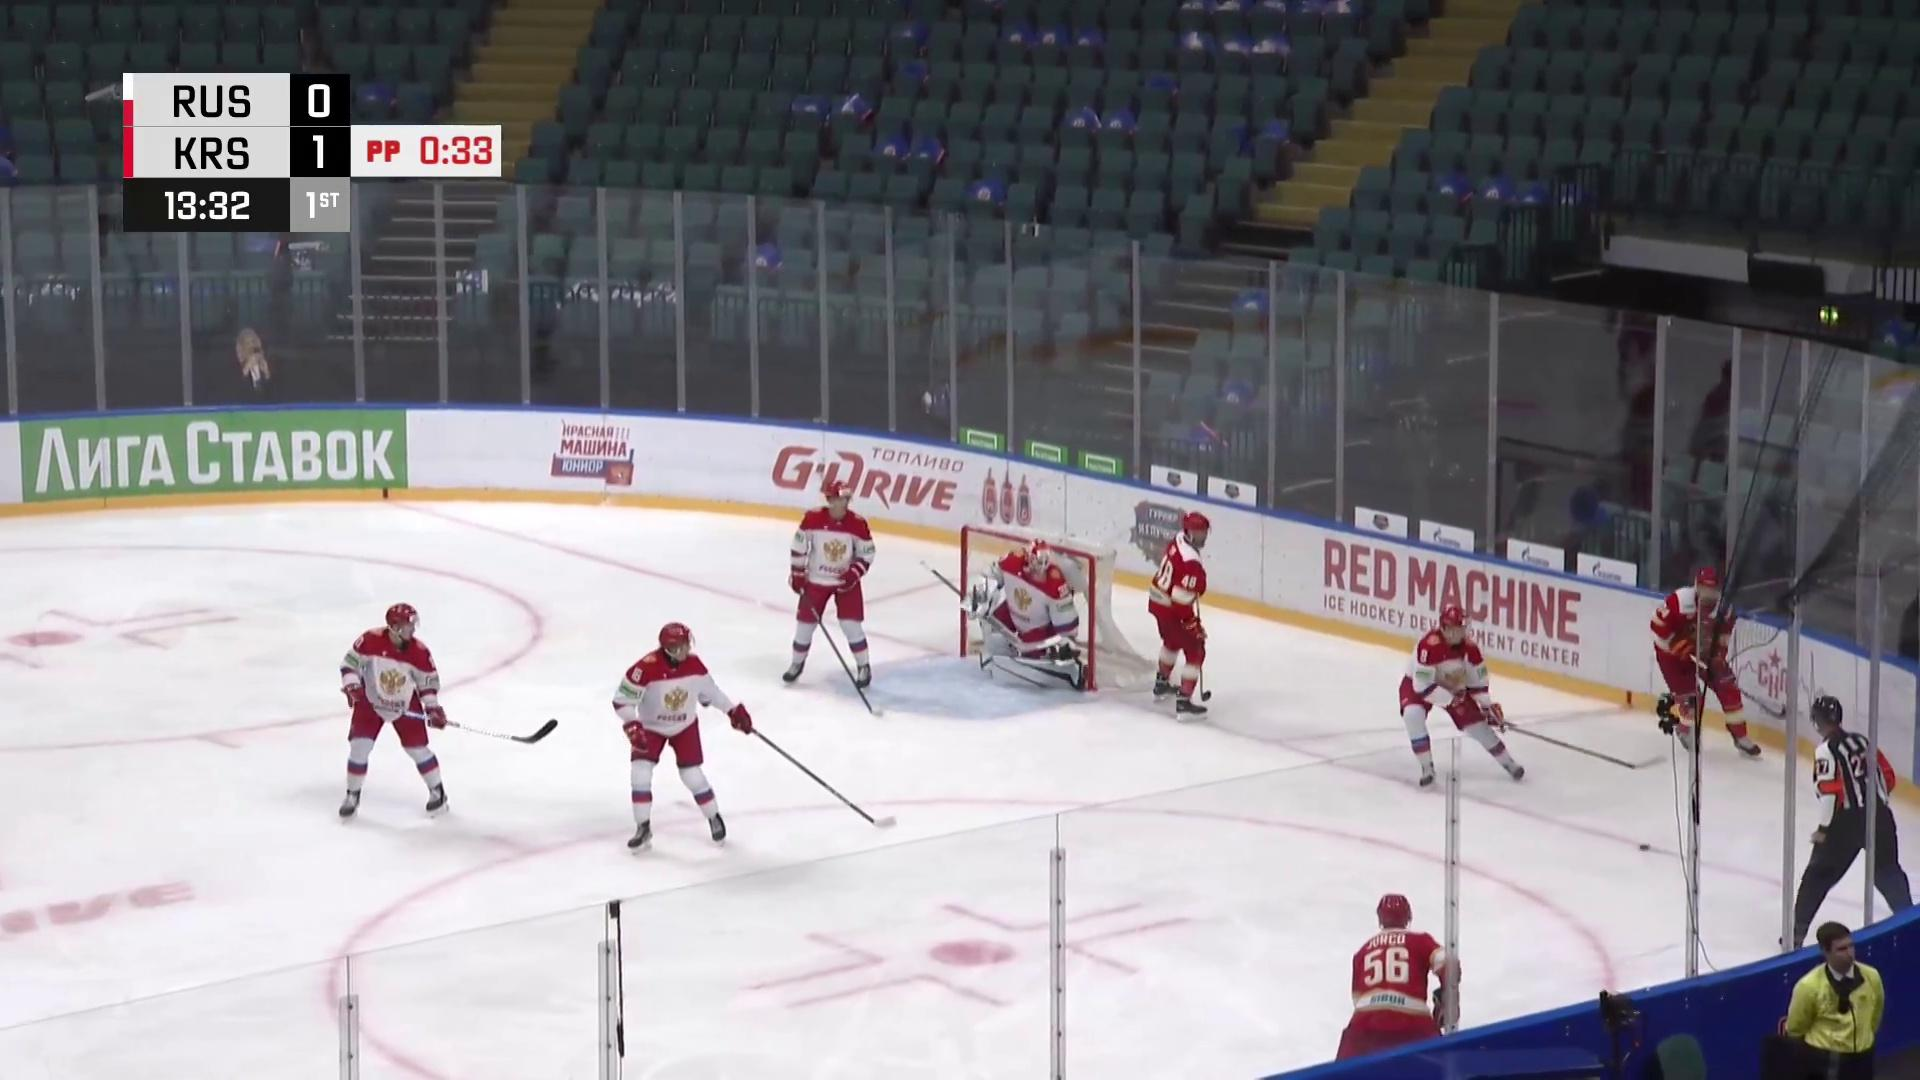ball: (1636, 840, 1654, 853)
